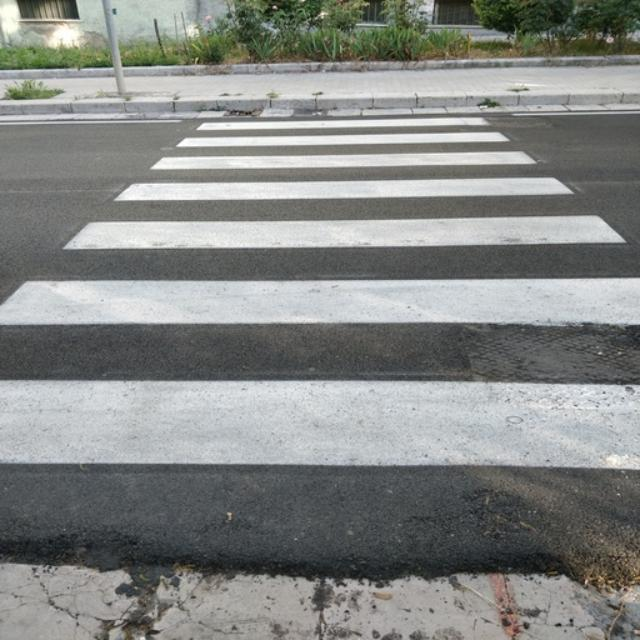sidewalk: (0, 115, 640, 469)
